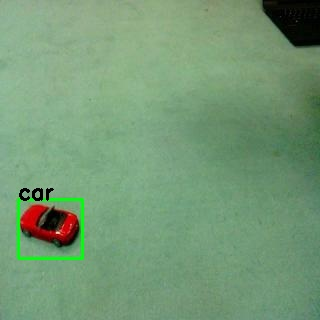car: (16, 198, 84, 258)
